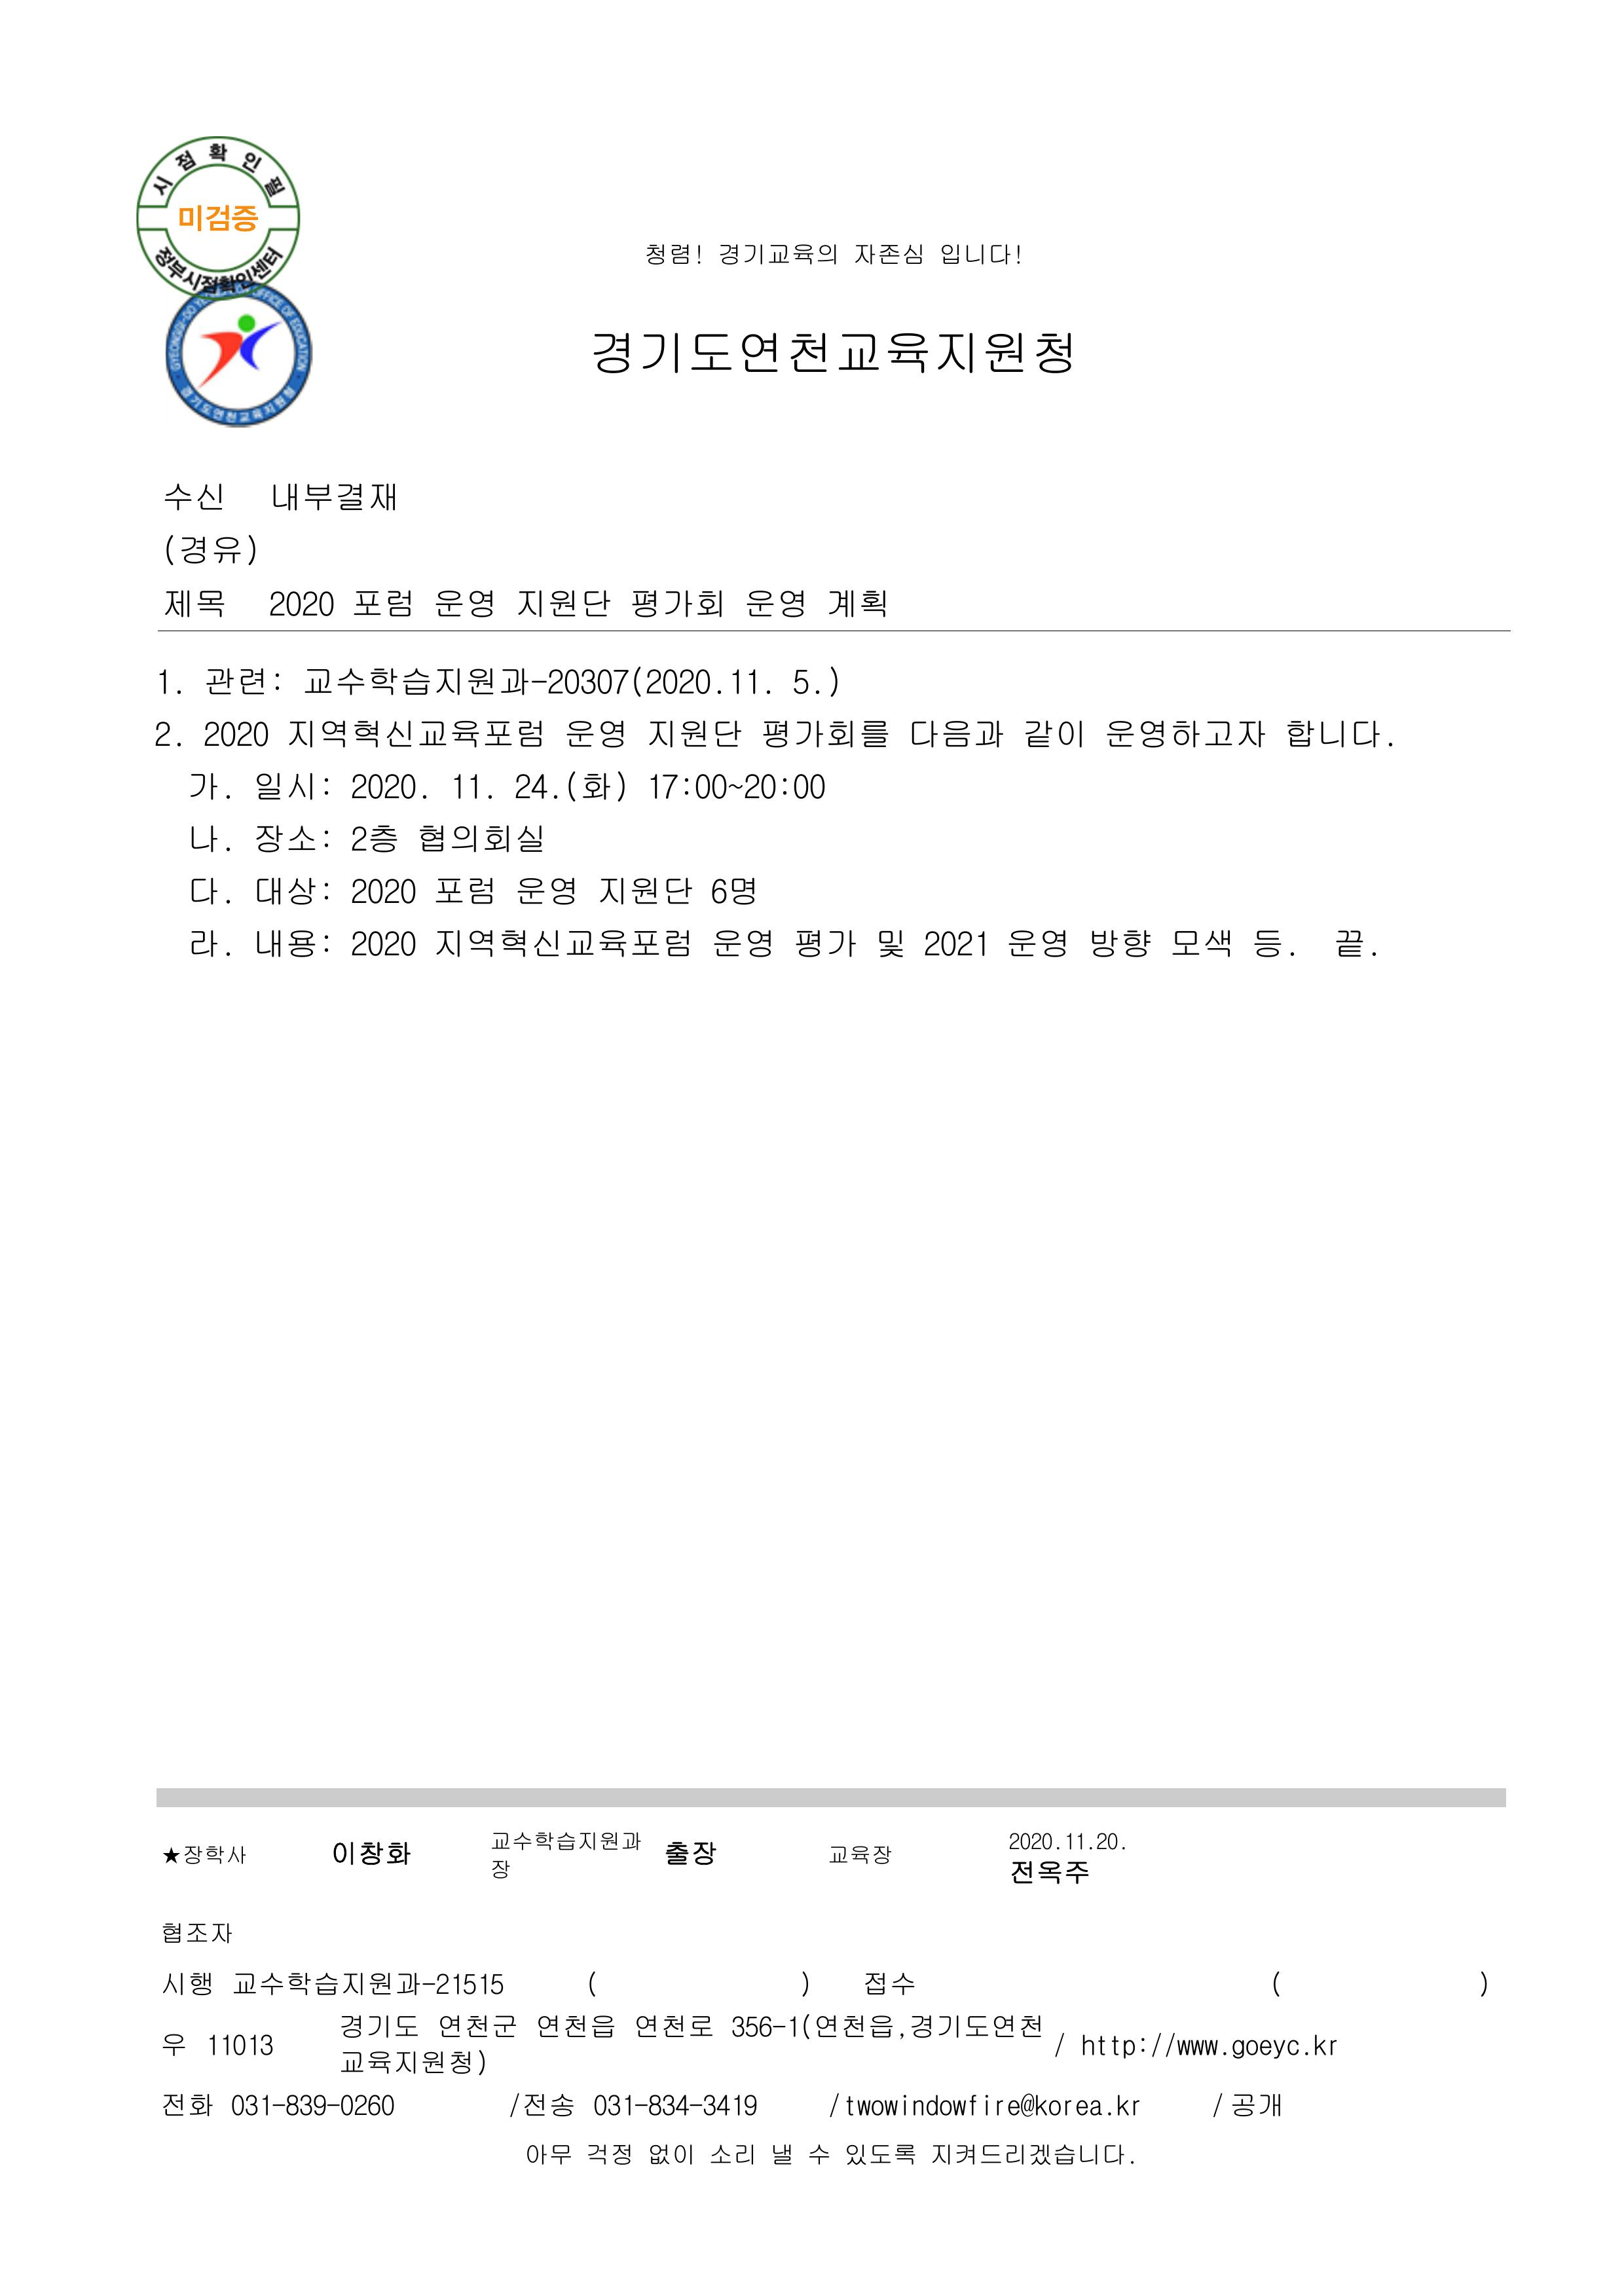t: (591, 329, 1075, 380), (301, 663, 724, 699), (724, 2008, 1043, 2044), (287, 713, 545, 753), (229, 1965, 506, 2000), (434, 925, 692, 961), (642, 767, 828, 803), (1104, 713, 1266, 753), (929, 2137, 1130, 2169), (756, 713, 889, 753), (268, 477, 397, 516), (337, 2042, 489, 2076), (416, 821, 545, 856), (907, 713, 1004, 753), (491, 1829, 645, 1854), (626, 587, 724, 625), (595, 871, 695, 907), (161, 530, 258, 566), (513, 584, 610, 620), (1283, 717, 1388, 749), (846, 2094, 979, 2119), (251, 869, 336, 906), (717, 244, 842, 268), (645, 717, 742, 749), (175, 200, 258, 236), (251, 821, 333, 856), (254, 767, 333, 803), (434, 2008, 520, 2040), (204, 663, 283, 699), (337, 2011, 423, 2044), (348, 767, 423, 803), (631, 2008, 713, 2040), (534, 2008, 616, 2040), (329, 1836, 412, 1868), (1007, 1854, 1090, 1886), (1022, 713, 1086, 753), (559, 767, 631, 803), (251, 925, 322, 961), (348, 925, 419, 961), (513, 871, 577, 911), (792, 925, 860, 961), (921, 925, 989, 961), (1086, 925, 1154, 961), (1169, 925, 1237, 961), (842, 2137, 918, 2169), (161, 584, 226, 620), (742, 584, 807, 620), (563, 717, 627, 753), (1004, 925, 1069, 961), (200, 717, 272, 749), (710, 925, 774, 961), (265, 588, 337, 620), (348, 875, 419, 907), (506, 2087, 577, 2119), (164, 1843, 251, 1868), (434, 584, 494, 620), (824, 584, 885, 620), (348, 588, 416, 620), (849, 240, 925, 268), (157, 1918, 232, 1947), (939, 244, 1025, 268), (434, 875, 498, 907), (204, 2029, 276, 2058), (1079, 2033, 1151, 2062), (993, 2094, 1075, 2119), (164, 480, 226, 513), (788, 663, 842, 699), (1230, 2036, 1301, 2062), (699, 2090, 760, 2119), (724, 663, 774, 699), (348, 821, 397, 856), (509, 771, 563, 803), (663, 1836, 717, 1868), (161, 1968, 215, 2000), (828, 1843, 893, 1868), (448, 771, 498, 803), (706, 875, 756, 907), (186, 871, 229, 907), (1247, 925, 1291, 961), (860, 1968, 914, 1997), (1230, 2090, 1283, 2119), (645, 2140, 699, 2169), (337, 2094, 397, 2119), (584, 2140, 635, 2169), (186, 767, 226, 803), (186, 925, 226, 961), (1330, 925, 1370, 961), (642, 240, 692, 268), (588, 2090, 638, 2119), (645, 2094, 703, 2119), (283, 2090, 329, 2119), (186, 821, 226, 853), (164, 2094, 215, 2119), (527, 2144, 574, 2169), (1169, 2036, 1223, 2058), (229, 2094, 276, 2119), (875, 925, 907, 961), (1007, 1832, 1058, 1854), (710, 2144, 760, 2165), (767, 2137, 800, 2169), (1115, 2094, 1144, 2119), (807, 2140, 832, 2169), (157, 720, 179, 749), (1094, 1832, 1122, 1854), (1312, 2036, 1341, 2058), (1075, 2097, 1104, 2119), (157, 670, 179, 695), (1065, 1832, 1090, 1854), (491, 1861, 513, 1882)
